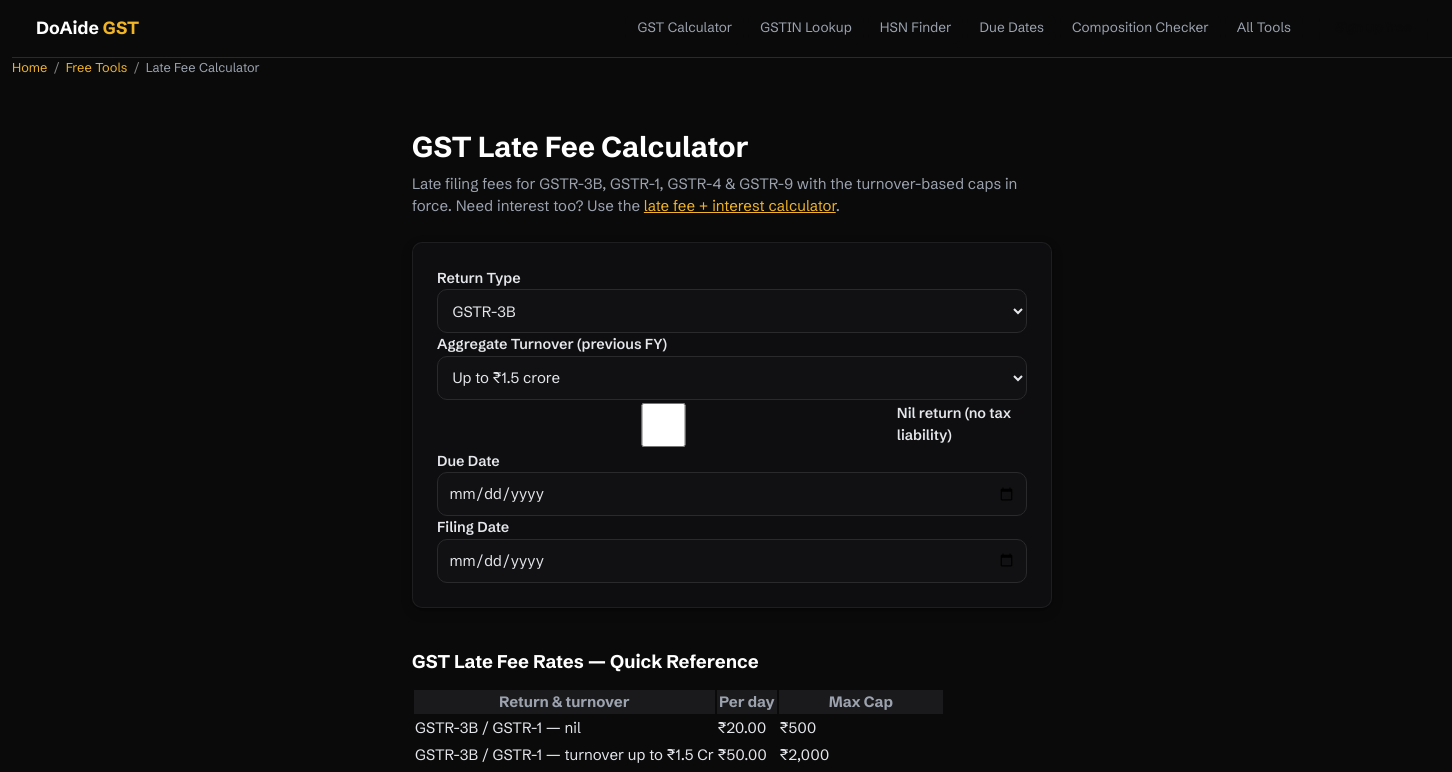
LateFeeCalculatorPage › shows on-time message when filing date <= due date
The image size is (1452, 772).
Type "2026-02-20" into the date field labelled "Due Date" at (732, 494), box [437,472,1027,516]
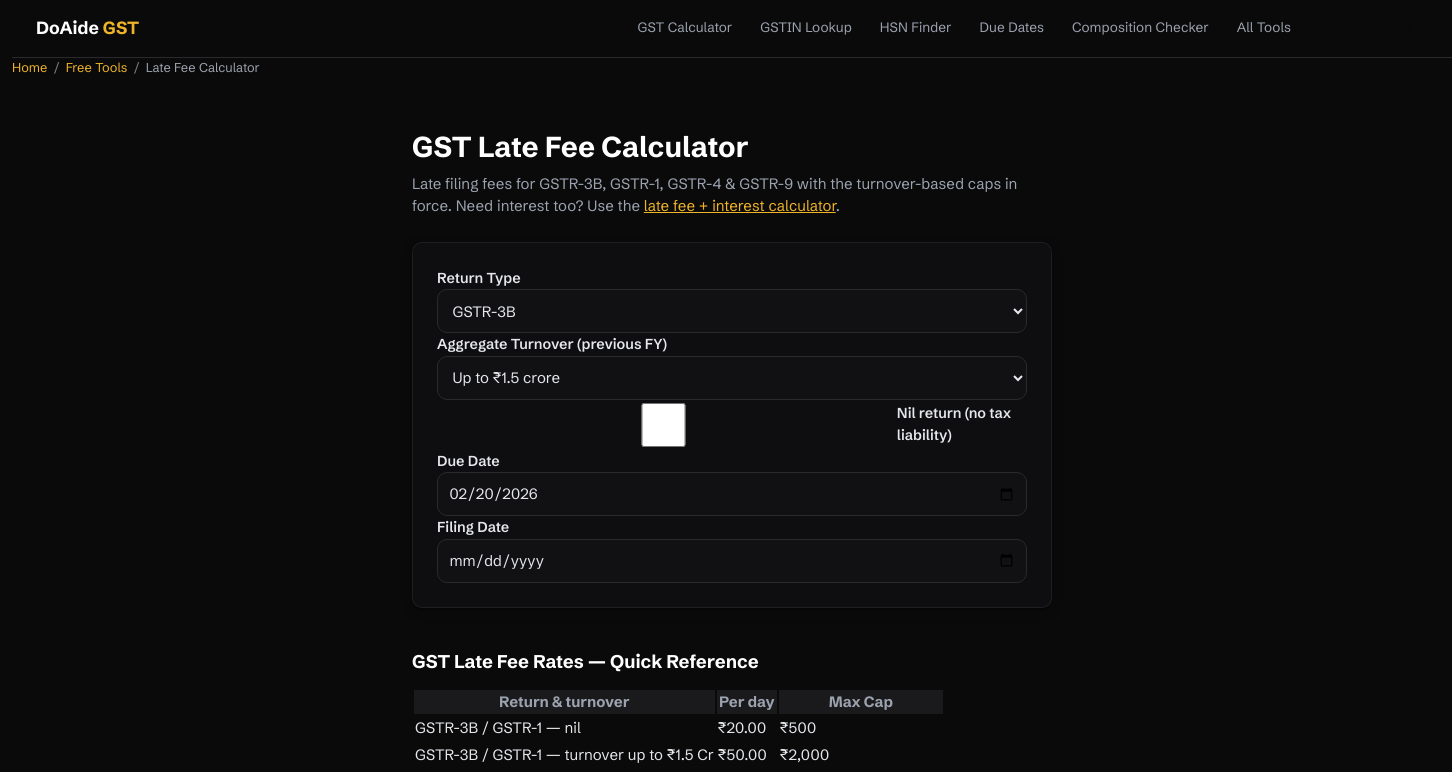
Type "2026-02-20" into the date field labelled "Filing Date" at (732, 561), box [437,539,1027,583]
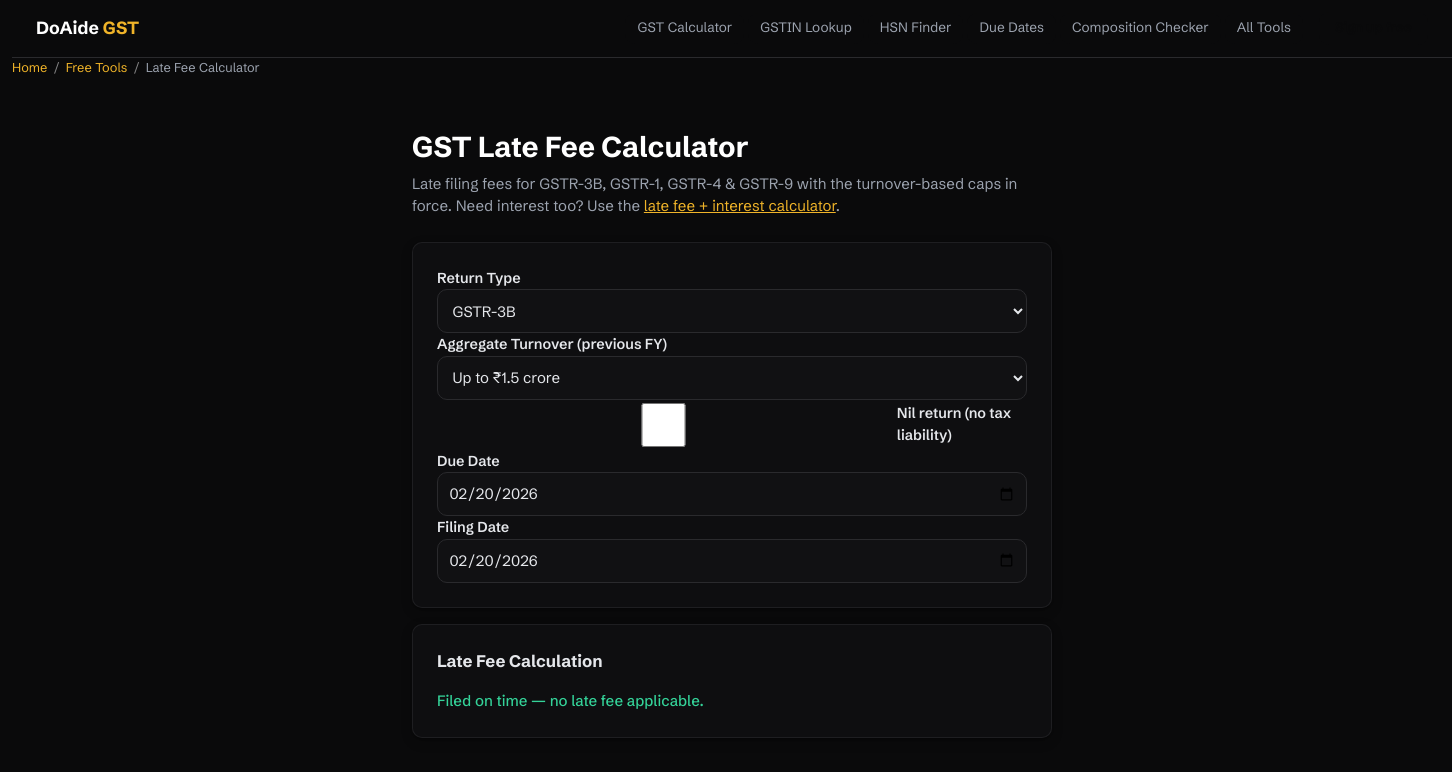
Expected: the text "Filed on time — no late fee applicable." is shown, [437,691,704,710]
